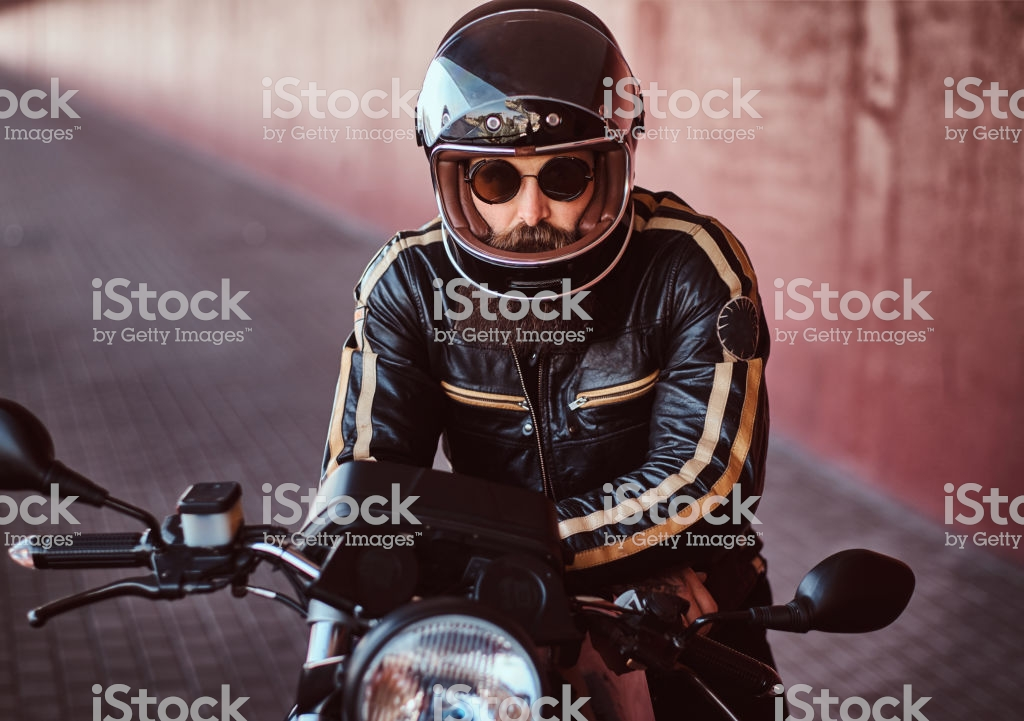helmet: (398, 4, 650, 279)
